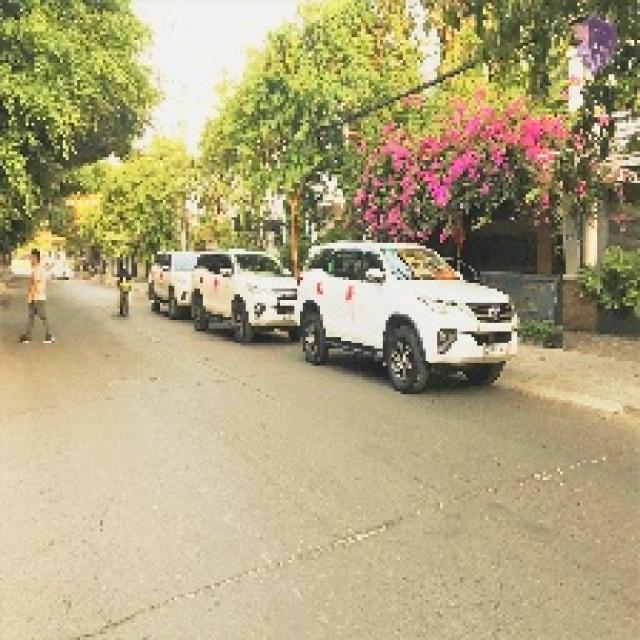car: (307, 232, 521, 377), (189, 242, 300, 337), (143, 239, 198, 329)
